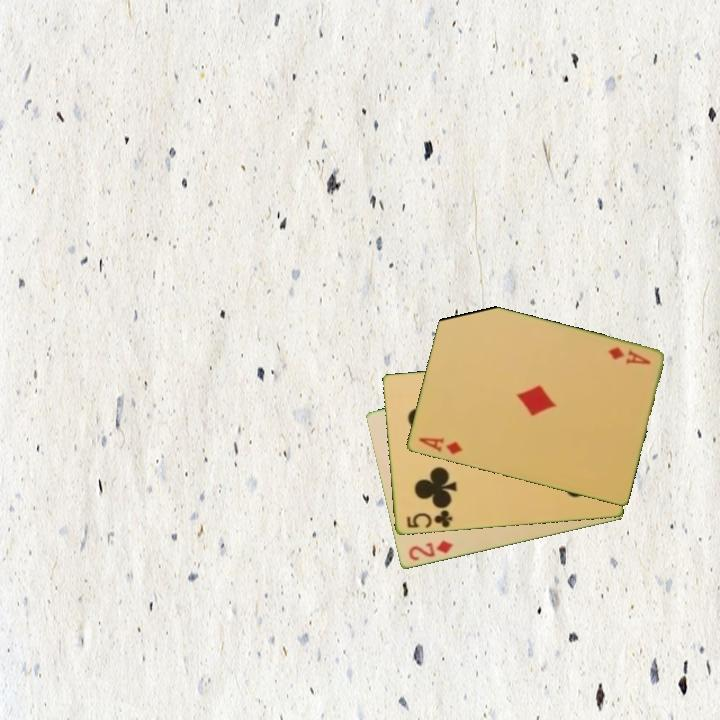2d: (405, 537, 456, 564)
5c: (403, 507, 455, 531)
Ad: (415, 434, 465, 458), (604, 344, 653, 368)
